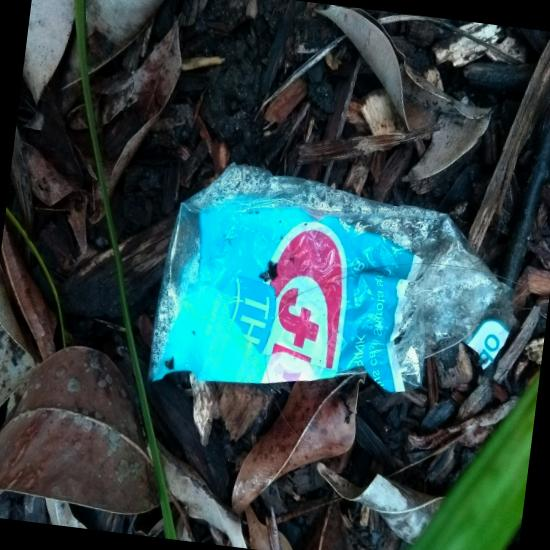Other plastic bottle: (409, 500, 424, 520), (420, 484, 433, 504), (394, 453, 408, 471), (147, 382, 158, 397), (157, 384, 166, 396)
Paper bag: (355, 200, 472, 341)
Unlabeled litter: (486, 284, 505, 296)
